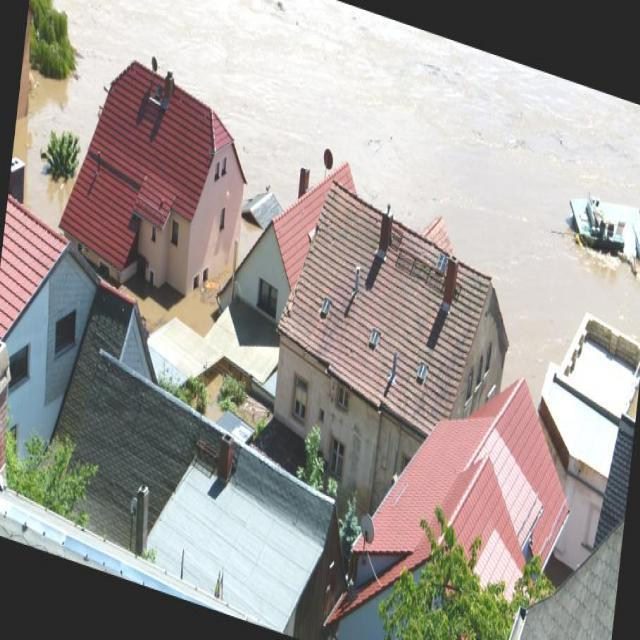flood: (16, 0, 639, 334)
